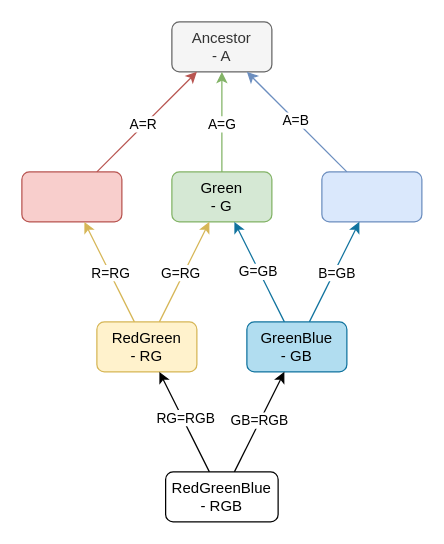
Image size: 444x544. Some labels were removed from this diagram. The centre of each missing label's shape, as x and y in pixels:
"Blue - B" goes at point 371,196.
"Red - R" goes at point 71,196.
